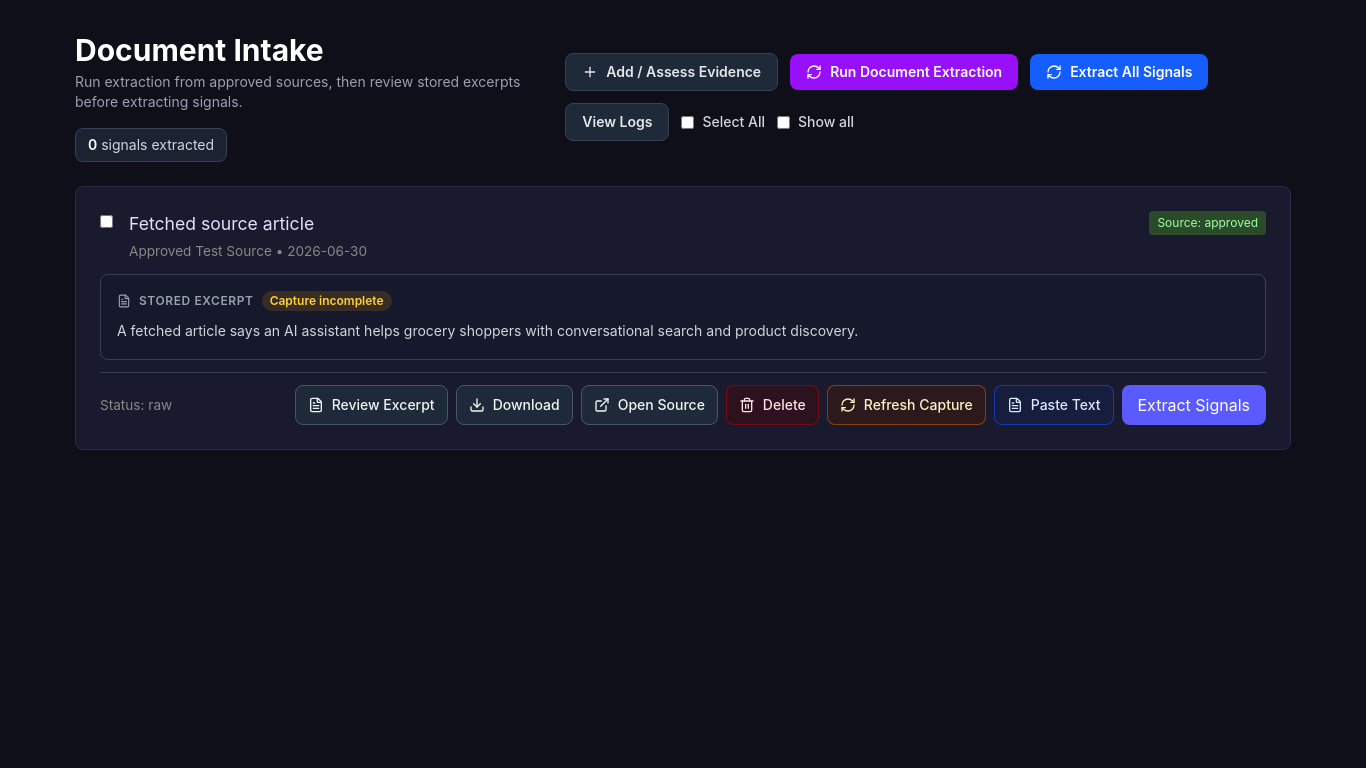
DocumentIntake › extracts signals and updates button state
This screenshot has width=1366, height=768.
Expected: the heading "Fetched source article" is shown, [129, 213, 314, 234]
Click the button with aria-label "Extract signals from Fetched source article".
click(1194, 405)  # box [1122, 385, 1266, 425]
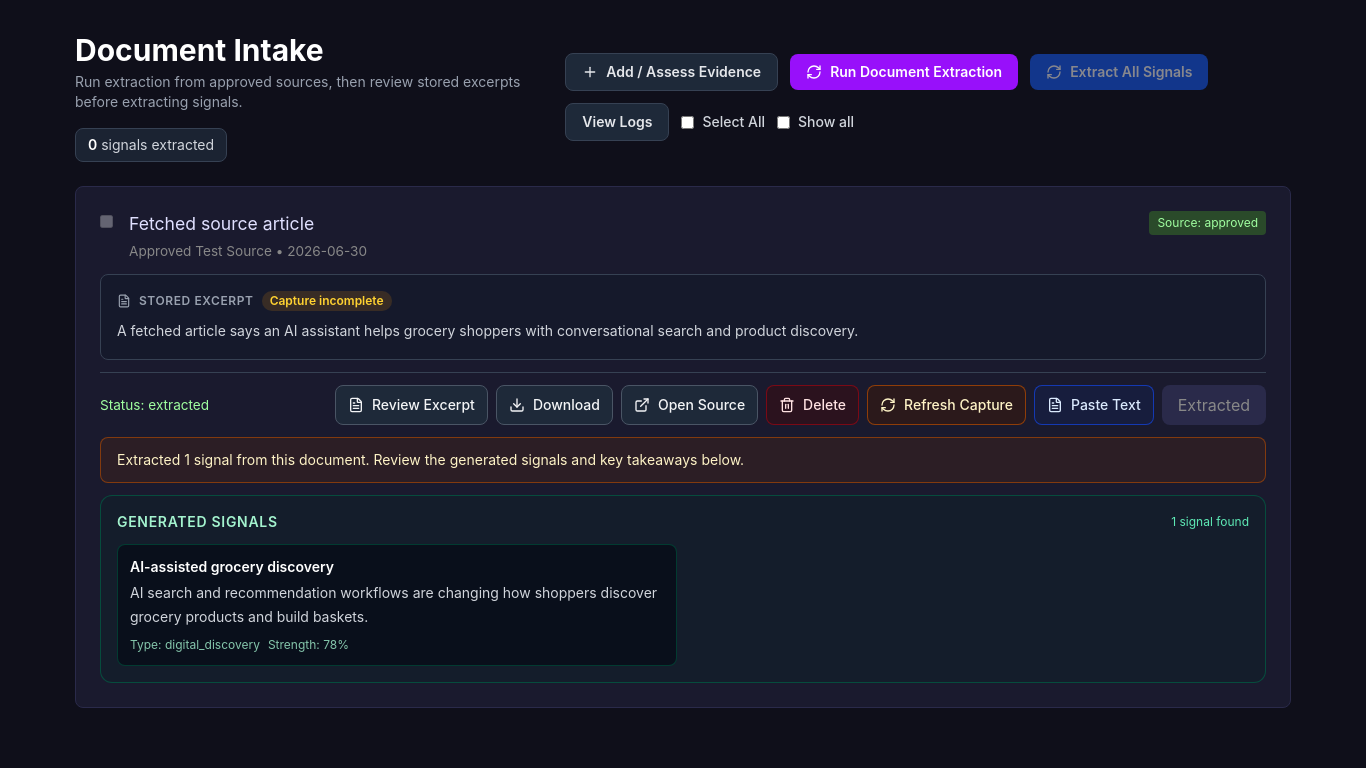
Now the button with aria-label "Extract signals from Fetched source article" is disabled, box [1162, 385, 1266, 425]
Now the button with aria-label "Extract signals from Fetched source article" reads "Extracted", box [1162, 385, 1266, 425]
Now the heading "Generated Signals" is shown, box [117, 512, 278, 532]
